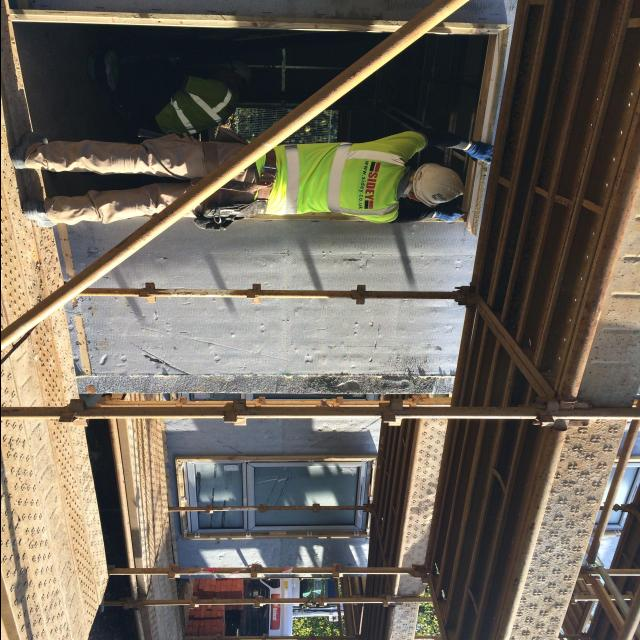helmet: (410, 156, 470, 209)
jacket: (272, 143, 414, 221)
